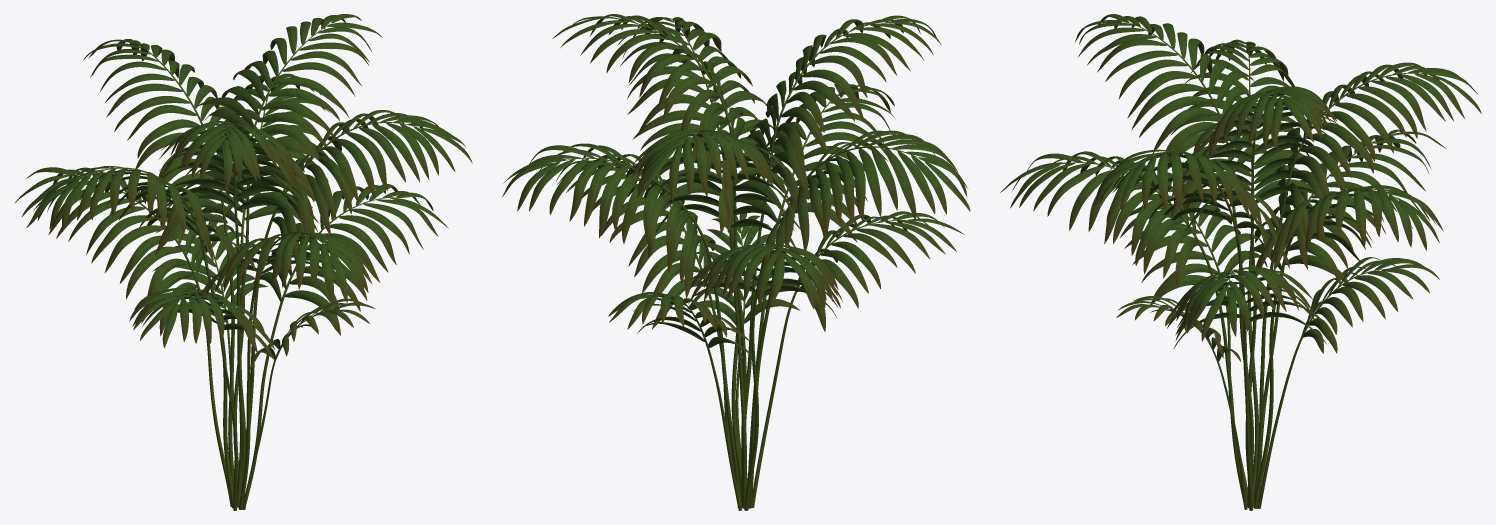
Rendered from hoewa_Forsteriana_1.obj.
3 views of the same model, side by side, from view 1: azimuth 30°, elevation 25°; view 2: azimuth 150°, elevation 25°; view 3: azimuth 270°, elevation 25° (orthographic). The views are drawn at different scales.
Parts seen in each view (by area): view 1: Howea_f__A001; view 2: Howea_f__A001; view 3: Howea_f__A001.
Part boxes in pixels (x1,y1,x2,y2): Howea_f__A001: [15, 14, 472, 510]; Howea_f__A001: [502, 14, 970, 510]; Howea_f__A001: [1000, 14, 1481, 510].
Size of the model in its own units: 167 by 179 by 169.
Materials: 2 (2 with a texture image).
